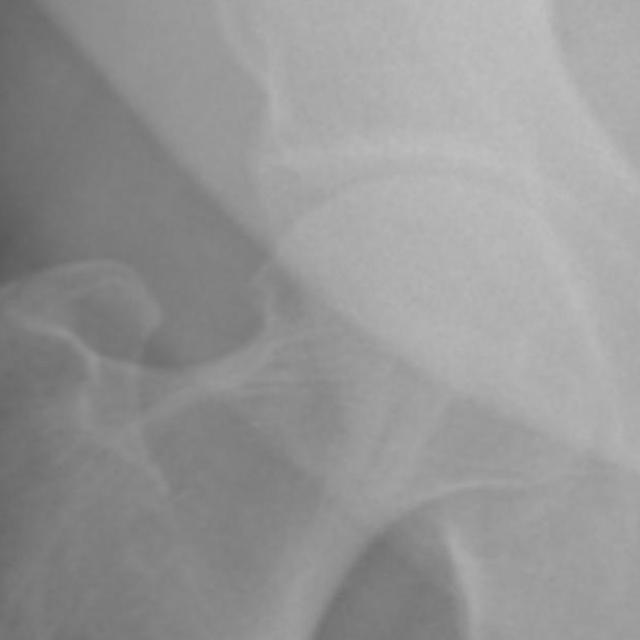Fitted_femural_head: (343, 172, 432, 343)
